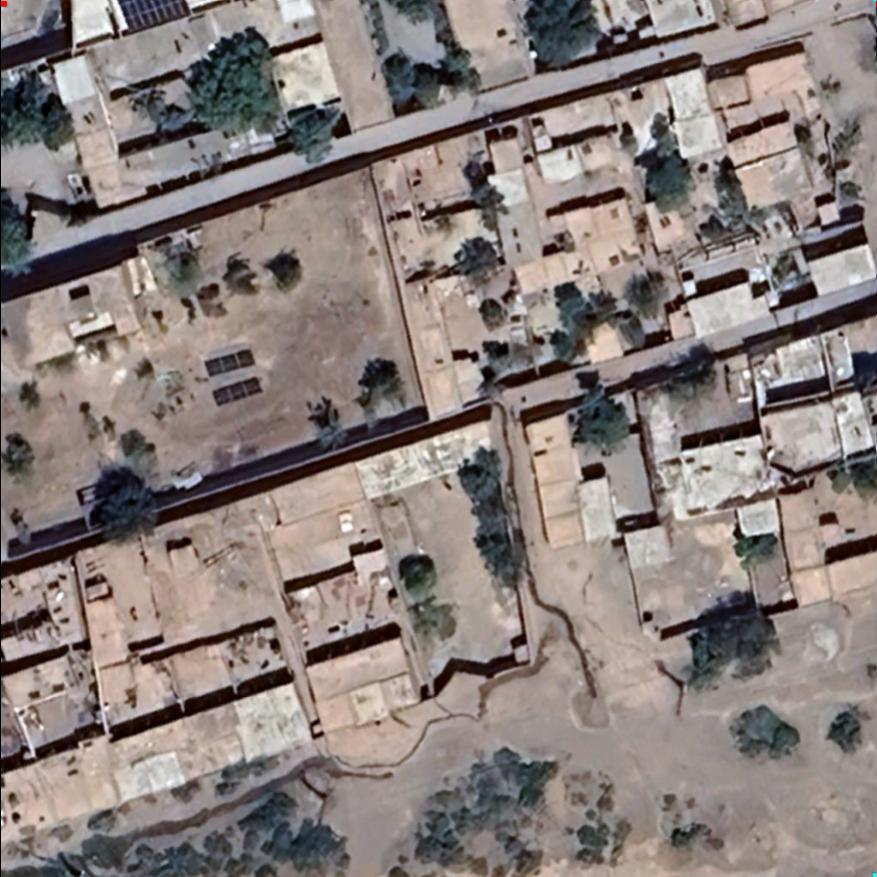Solarpanel: (108, 0, 202, 39), (206, 369, 271, 413), (198, 343, 265, 381)
